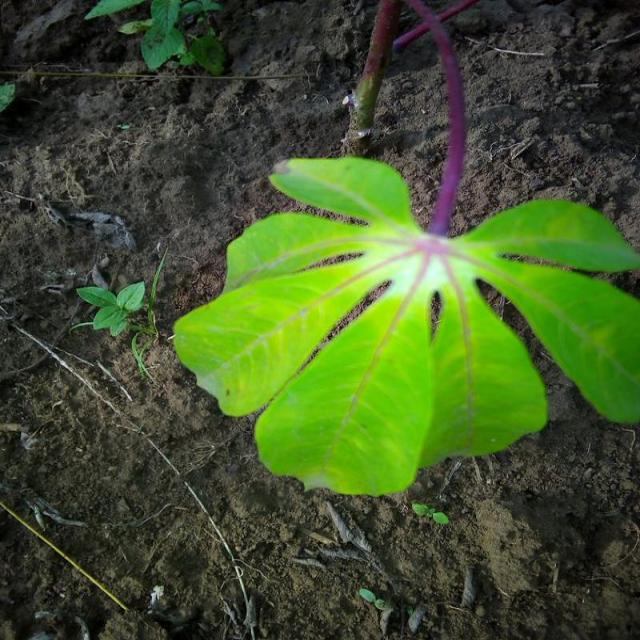cassava leaf: (172, 153, 638, 497)
